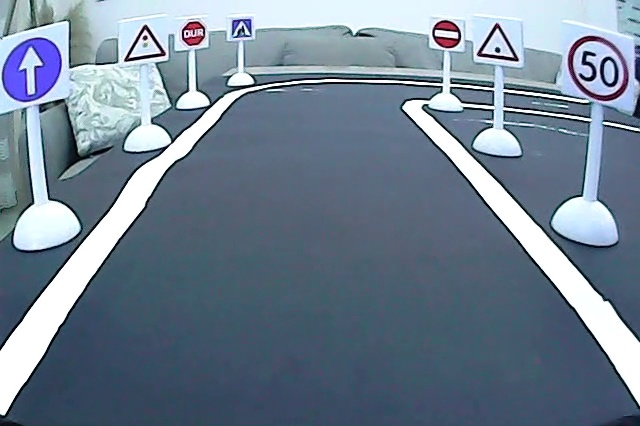do not enter: (430, 18, 463, 51)
green light: (475, 20, 522, 66)
red light: (122, 21, 168, 64)
school crossing: (229, 18, 253, 40)
speed limit 50: (566, 34, 631, 104)
stop sign: (180, 19, 208, 48)
